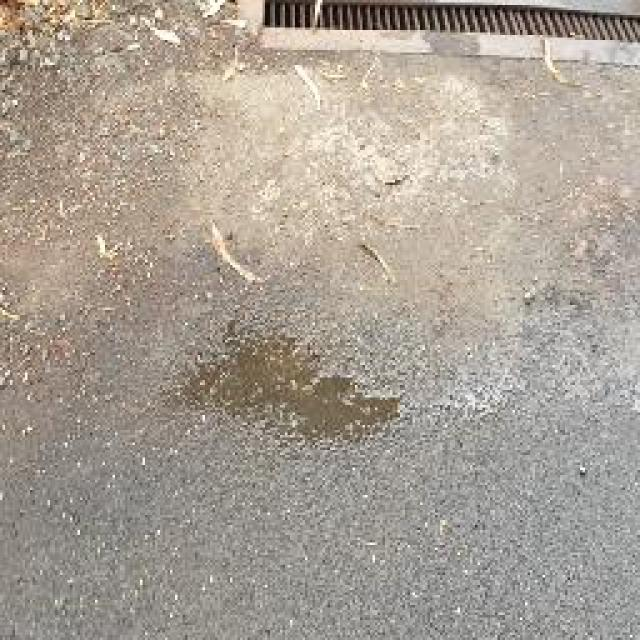stagnation: (143, 326, 408, 445)
